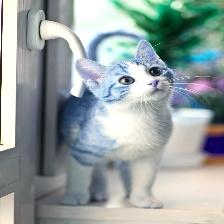kedo: (60, 39, 175, 207)
